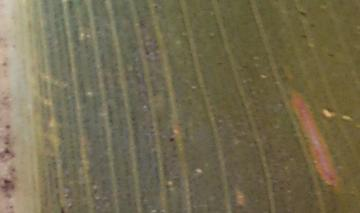tarspot: (1, 122, 14, 156), (293, 5, 307, 18), (1, 177, 15, 189), (305, 20, 318, 30), (298, 31, 308, 40), (142, 48, 152, 57), (57, 205, 66, 213), (325, 51, 335, 57), (167, 136, 175, 143), (1, 60, 8, 68), (152, 3, 158, 9)
